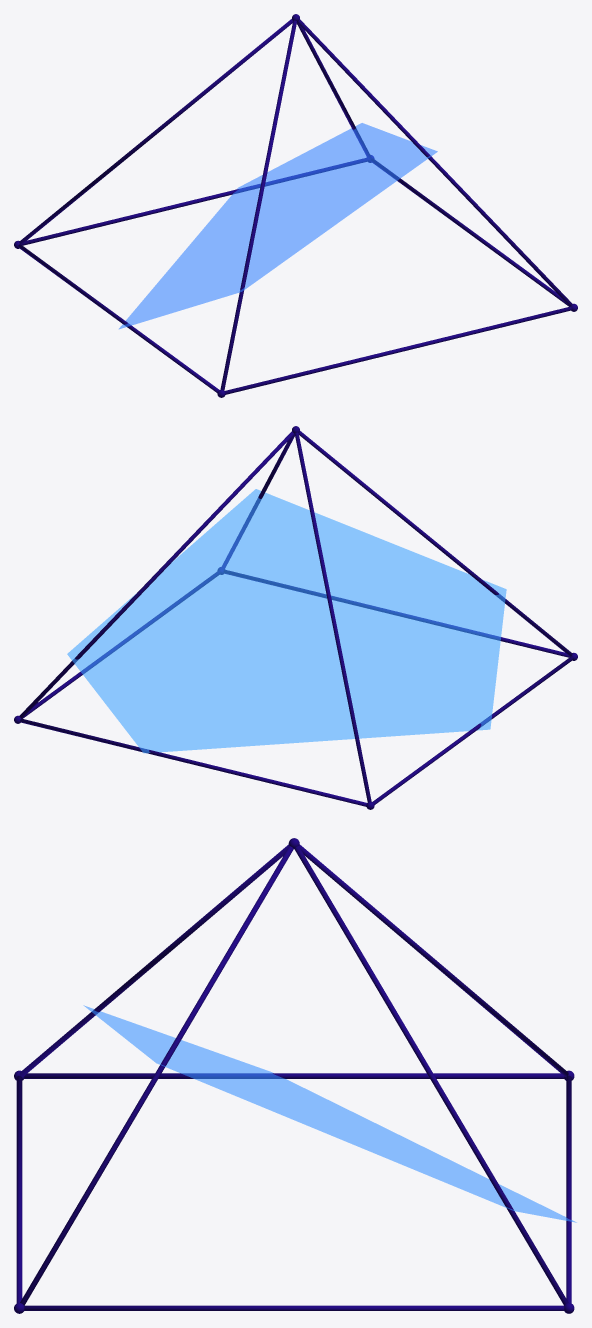
The model's file is matan2.glb.
3 renders of one model, top to bottom at view 1: azimuth 30°, elevation 25°; view 2: azimuth 150°, elevation 25°; view 3: azimuth 270°, elevation 25°, orthographic. The views are drawn at different scales.
Visible parts, largest first — view 1: Plane, Пирамида; view 2: Plane, Пирамида; view 3: Пирамида, Plane.
Boxes of the visible parts, x1,y1,x2,y2 form: Plane: (119,123,437,329); Пирамида: (14,14,577,397); Plane: (67,489,506,753); Пирамида: (14,426,577,809); Пирамида: (14,838,574,1313); Plane: (83,1005,576,1222).
Bounding box in the file's own units: 2.08 × 1.44 × 2.05.
